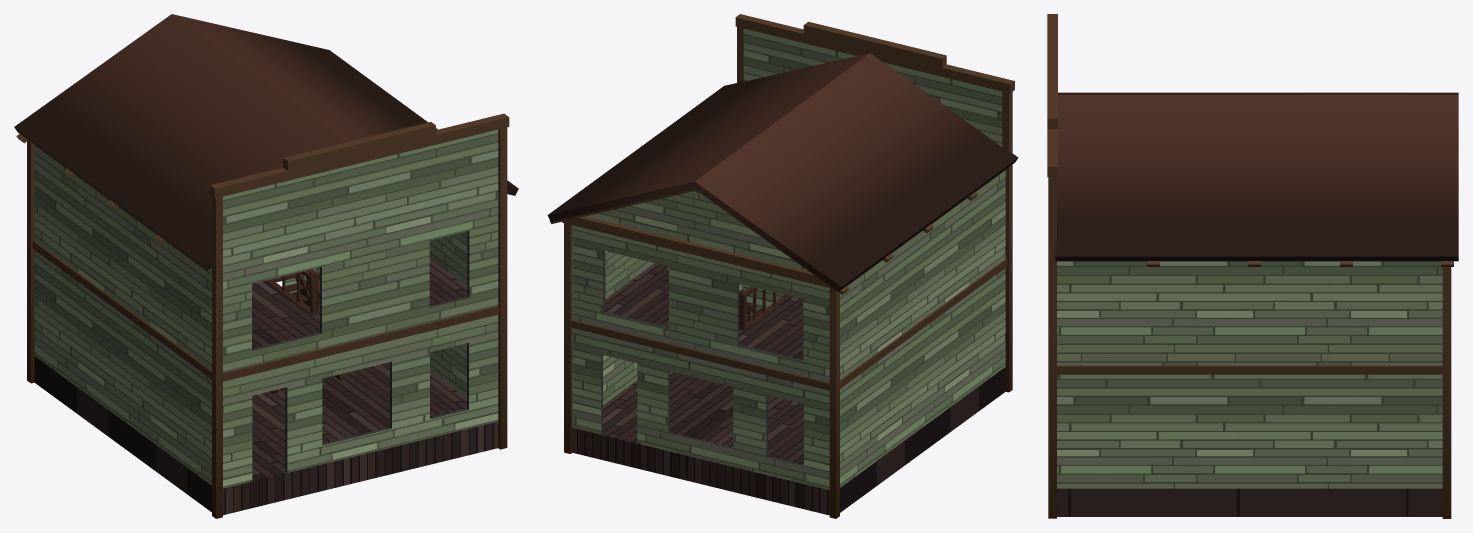
File: House 8 M Green.glb
The picture shows the model from 3 angles, left to right: view 1: azimuth 30°, elevation 25°; view 2: azimuth 150°, elevation 25°; view 3: azimuth 270°, elevation 25°; orthographic projection. The views are drawn at different scales.
Visible parts, largest first — view 1: House 8 M Green; view 2: House 8 M Green; view 3: House 8 M Green.
Boxes of the visible parts, box(x1,y1,x2,y2) form: House 8 M Green: box(14, 14, 518, 518); House 8 M Green: box(547, 14, 1018, 518); House 8 M Green: box(1047, 14, 1458, 518).
Size of what is drawn, in the model's own units: 8.86 by 9.13 by 9.39.
3 materials, 3 textured.
